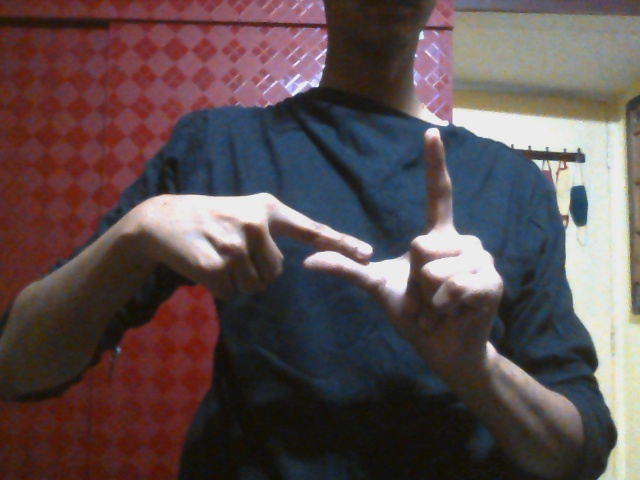J: (190, 126, 504, 349)
